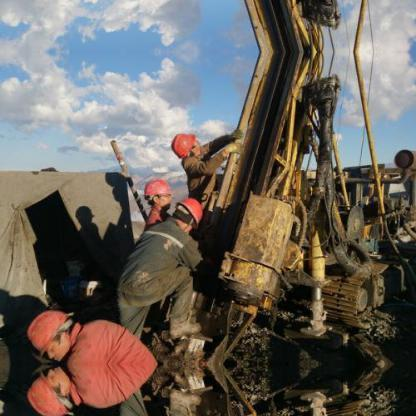helmet: (23, 308, 80, 352), (164, 125, 199, 163), (174, 191, 206, 225), (140, 175, 173, 203)
